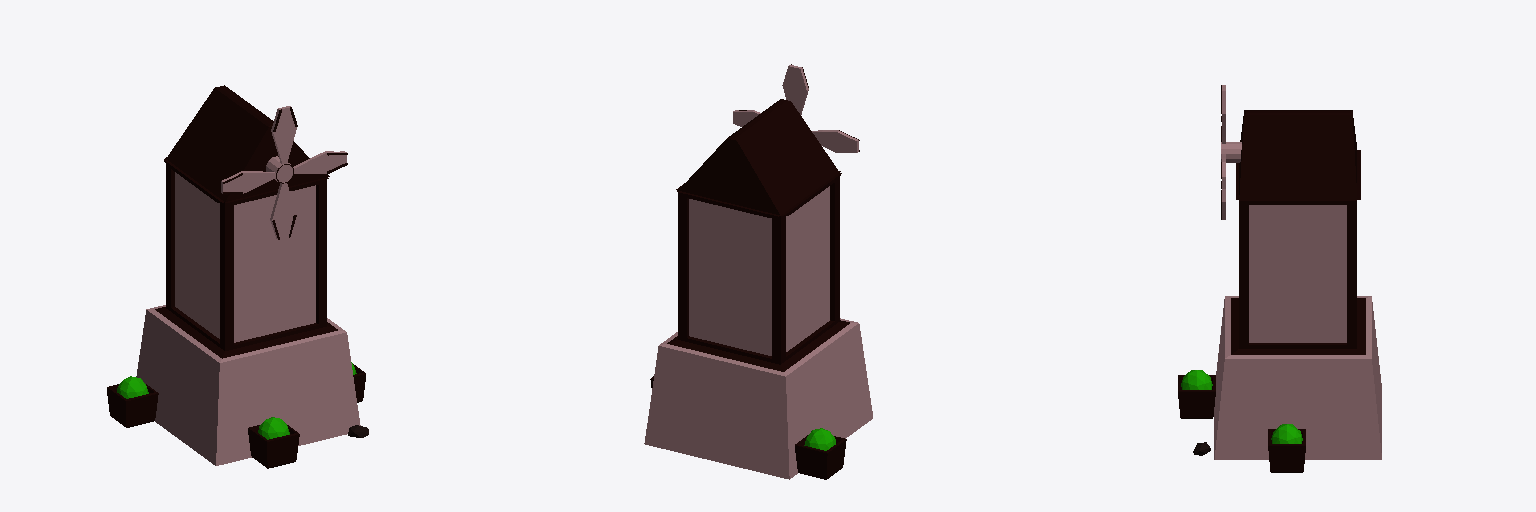
File: mill_low_poly1.obj
3 renders of one model, left to right at view 1: azimuth 30°, elevation 25°; view 2: azimuth 150°, elevation 25°; view 3: azimuth 270°, elevation 25°, orthographic.
Visible parts, largest first — view 1: Cube, Cube.002_Cube.003, Cube.003_Cube.004; view 2: Cube, Cube.002_Cube.003; view 3: Cube, Cube.003_Cube.004, Cube.001_Cube.002.
Part boxes in pixels (x1,y1,x2,y2): Cube: (136,85,360,465); Cube.002_Cube.003: (107,376,158,427); Cube.003_Cube.004: (248,417,299,468); Cube: (644,64,872,479); Cube.002_Cube.003: (795,428,846,479); Cube: (1214,85,1381,459); Cube.003_Cube.004: (1178,370,1215,418); Cube.001_Cube.002: (1268,424,1305,472).
Size of the model in its own units: 6.76 by 10.41 by 5.72.